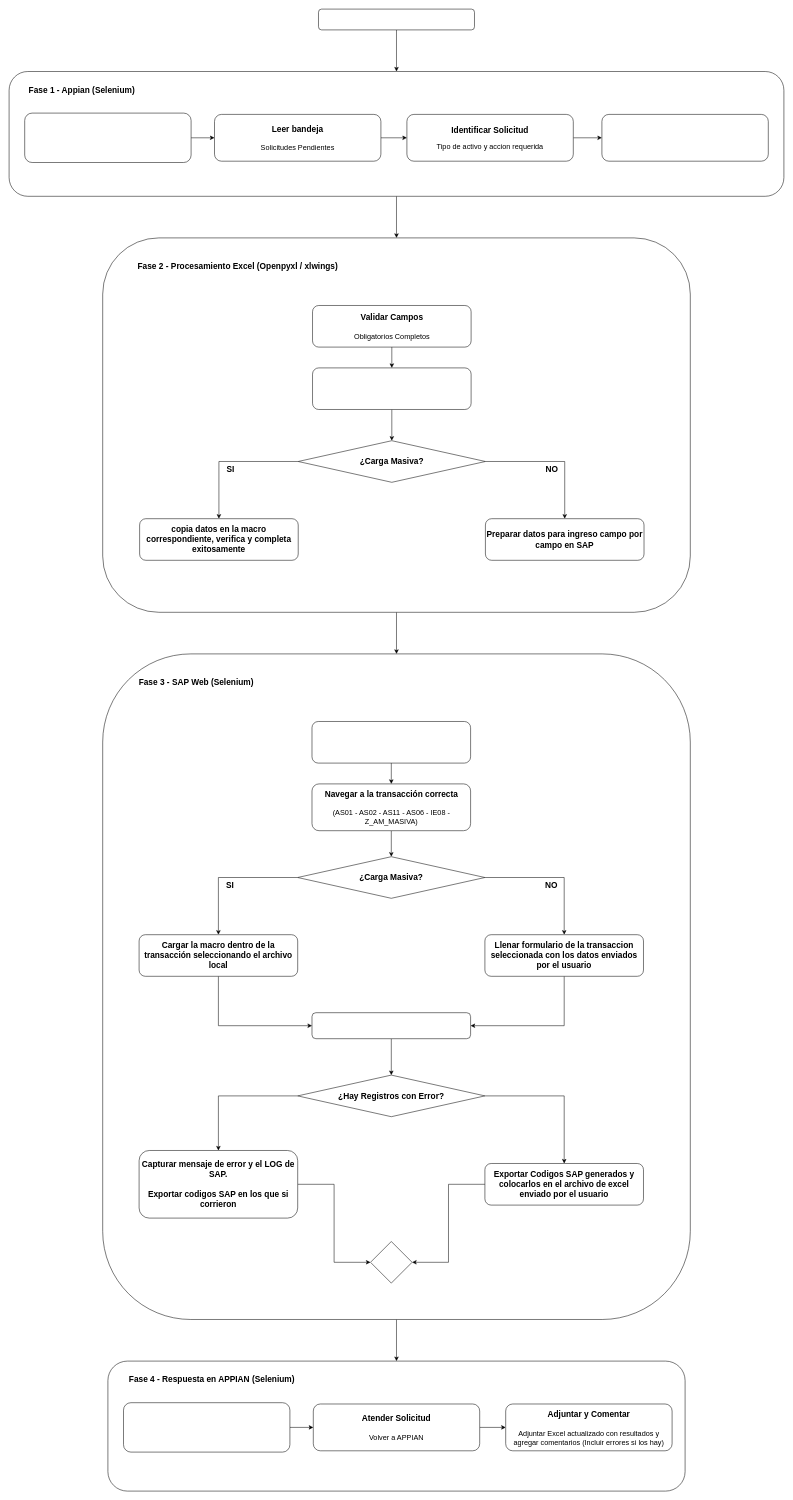
Image size: 793x1500. Some labels were removed from this diagram. Each missing label, with the box of its shape:
Descargar Excel Adjunto: (601, 114, 768, 161)
Ejecutar Transaccion: (311, 1012, 471, 1039)
Login en Appian Credenciales desde archivo de configuracion o interfaz bot: (24, 113, 191, 162)
Login en SAP Ambiente EP1 o CP1: (311, 721, 471, 763)
Pegar Codigos SAP Primera columna del Excel: (123, 1402, 290, 1452)
Scheduler - cada cierto tiempo: (318, 9, 474, 30)
Validar Accion: (312, 367, 471, 410)
